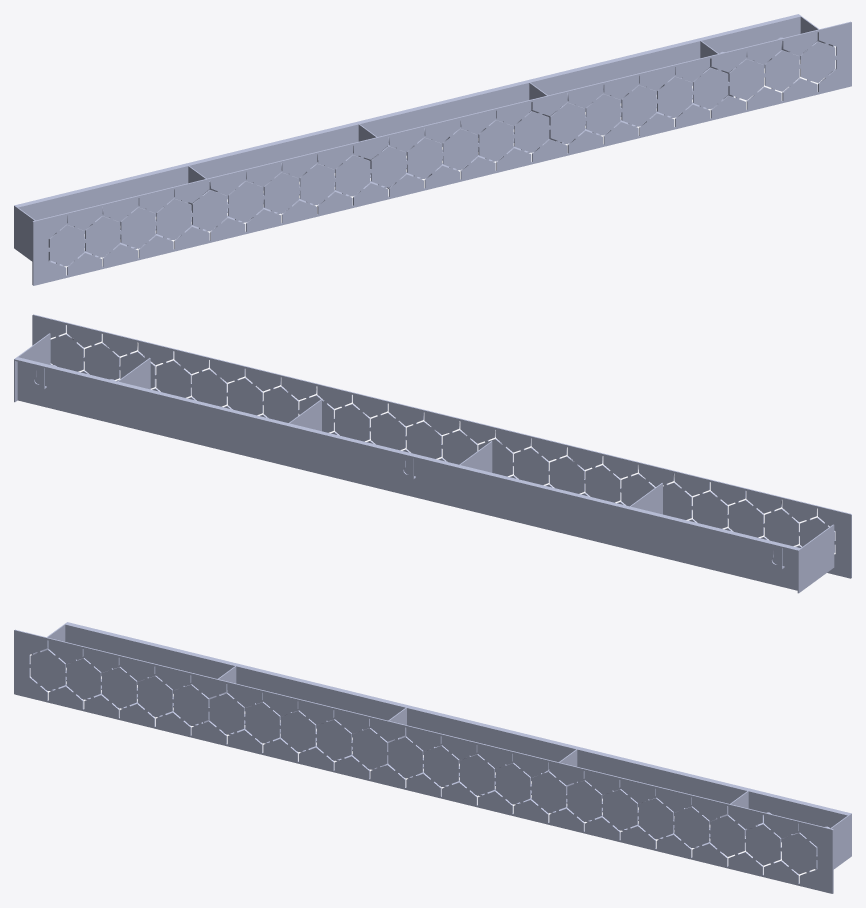
The model's file is bee-patron.1879552cad.glb.
3 views of the same model, one above another, from view 1: azimuth 30°, elevation 25°; view 2: azimuth 150°, elevation 25°; view 3: azimuth 330°, elevation 25° (orthographic).
Parts seen in each view (by area): view 1: NAUO1; view 2: NAUO1; view 3: NAUO1.
Boxes of the visible parts, x1=… form: NAUO1: x1=14, y1=14, x2=851, y2=285; NAUO1: x1=14, y1=314, x2=851, y2=593; NAUO1: x1=14, y1=622, x2=851, y2=893.
Size of the model in its own units: 1.2 by 0.0899 by 0.092.
